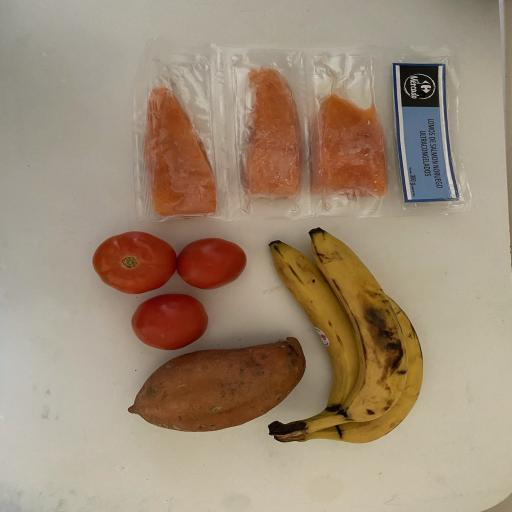banana: (296, 224, 413, 441), (269, 297, 429, 447), (261, 236, 363, 436)
salmon: (140, 84, 222, 220), (234, 66, 307, 205), (304, 92, 392, 200)
sweet_potato: (124, 331, 310, 436)
tomato: (91, 229, 177, 295), (129, 290, 212, 352), (173, 234, 250, 292)
